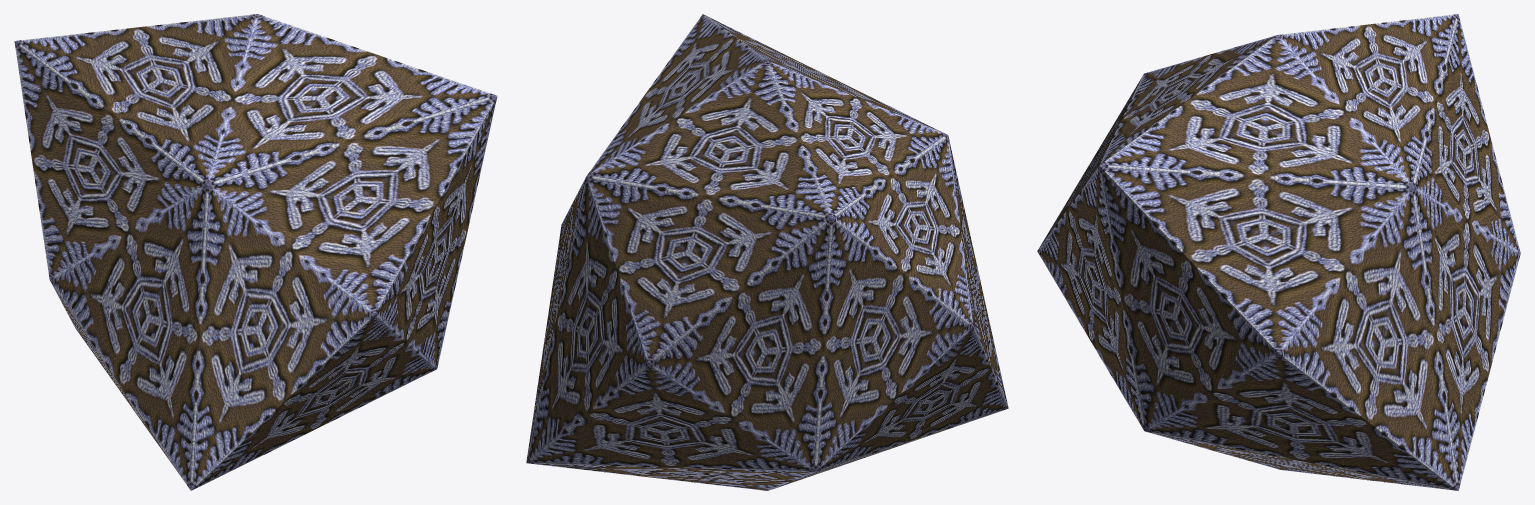
The model's file is HexakisTetrahedron3.obj.
The picture shows the model from 3 angles, left to right: view 1: azimuth 30°, elevation 25°; view 2: azimuth 150°, elevation 25°; view 3: azimuth 270°, elevation 25°; orthographic projection.
Bounding box in the file's own units: 9.9 × 9.85 × 9.9.
Materials: 1 (1 with a texture image).
